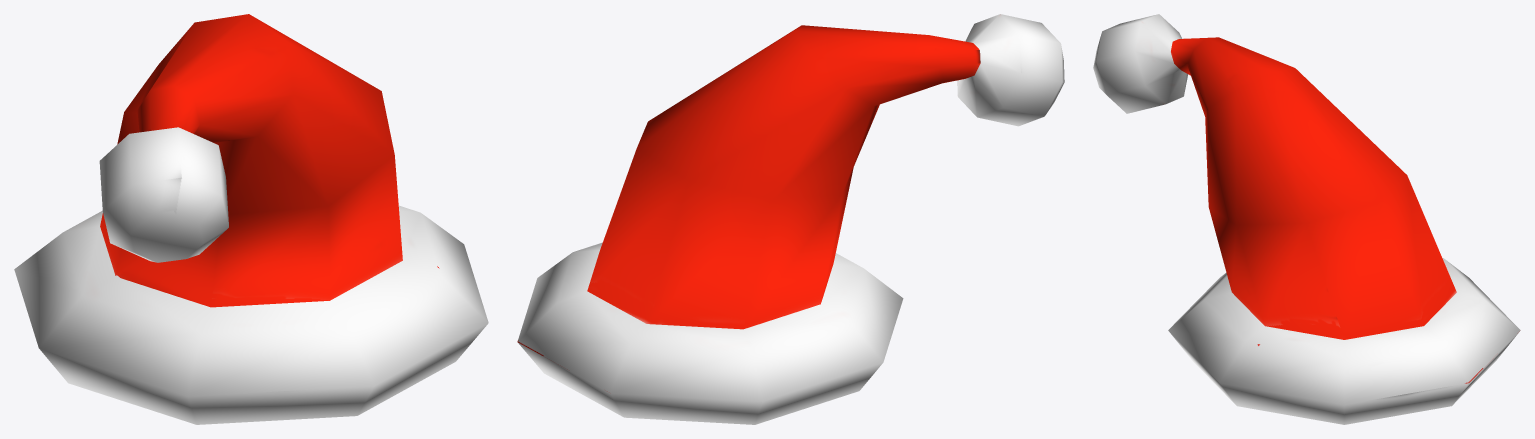
File: hat4.fbx
The picture shows the model from 3 angles, left to right: view 1: azimuth 30°, elevation 25°; view 2: azimuth 150°, elevation 25°; view 3: azimuth 270°, elevation 25°; orthographic projection. The views are drawn at different scales.
Parts seen in each view (by area): view 1: Torus.001; view 2: Torus.001; view 3: Torus.001.
Part boxes in pixels (box(x1,y1,x2,y2)): Torus.001: box(14, 14, 488, 424); Torus.001: box(517, 14, 1064, 424); Torus.001: box(1093, 14, 1520, 424).
Size of the model in its own units: 1.51 by 1.07 by 1.55.
Materials: 1 (1 with a texture image).
